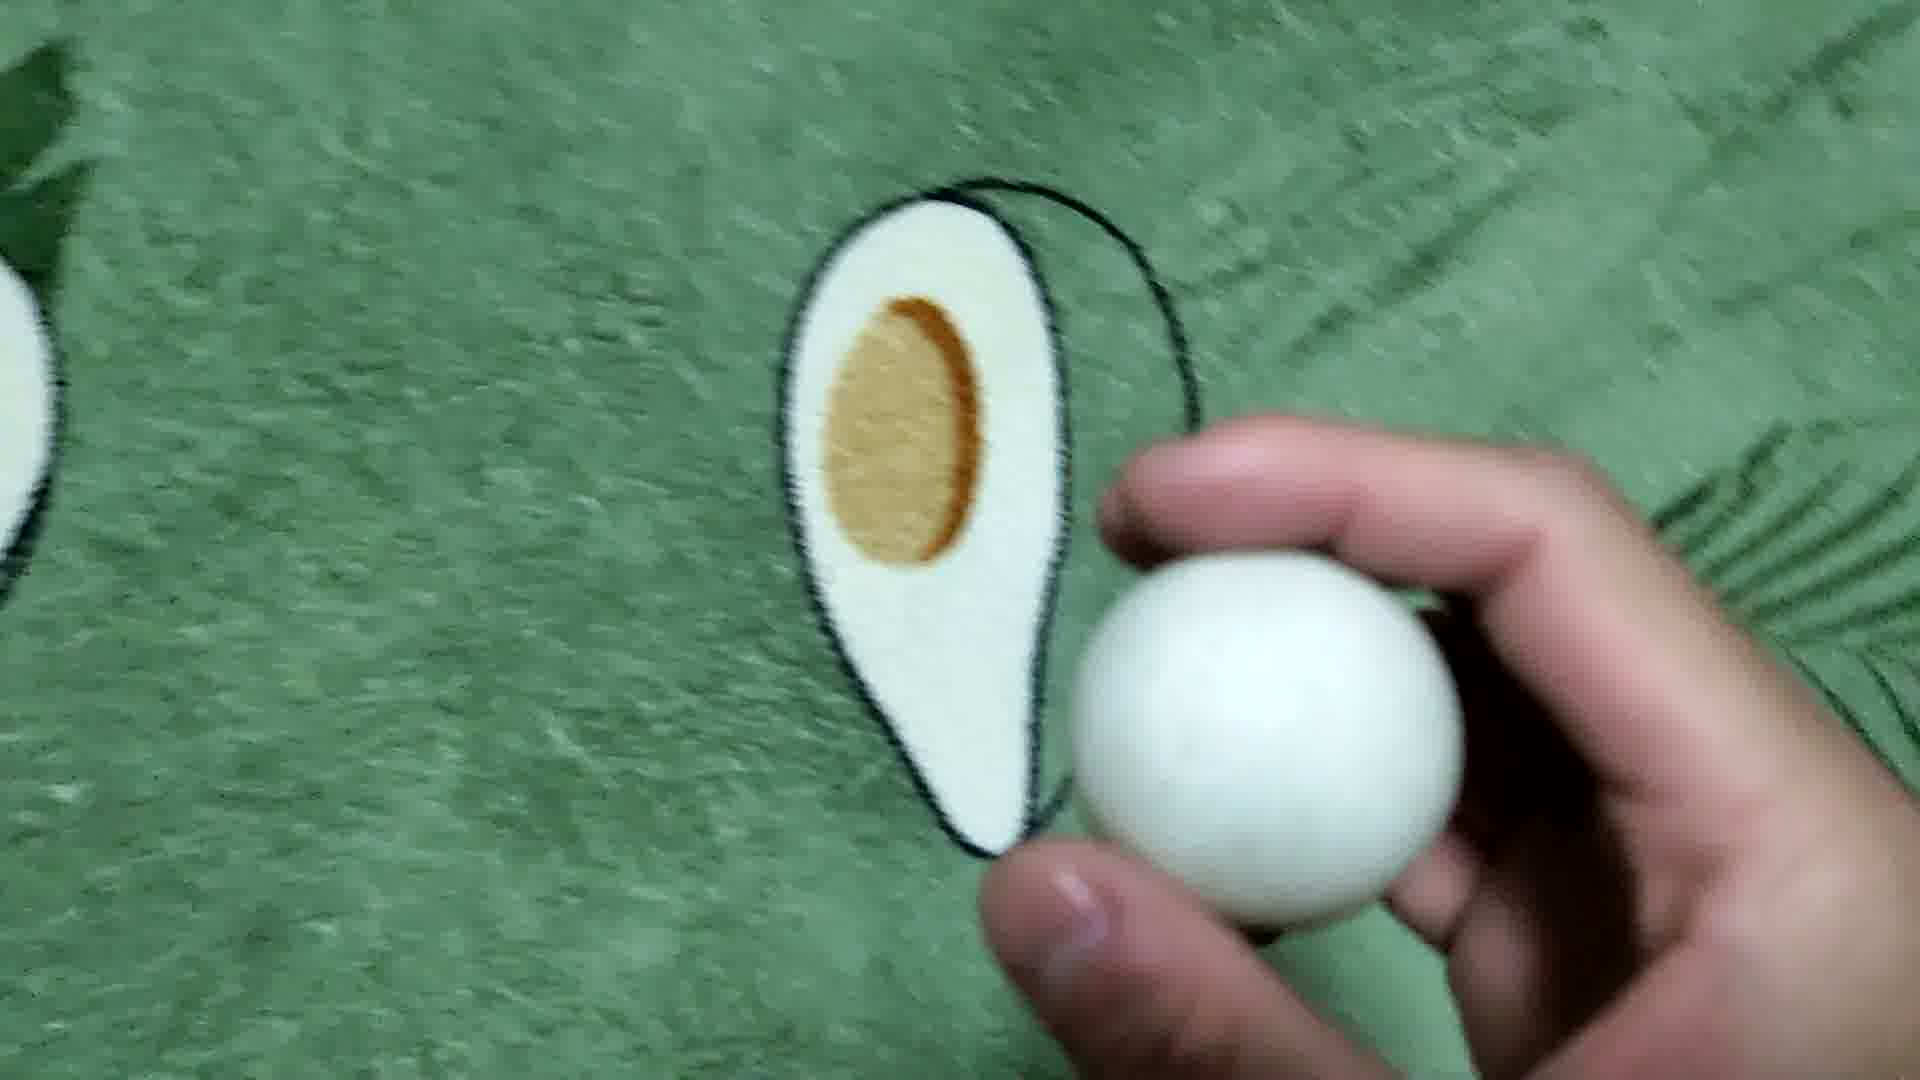Ball: (1072, 549, 1472, 920)
